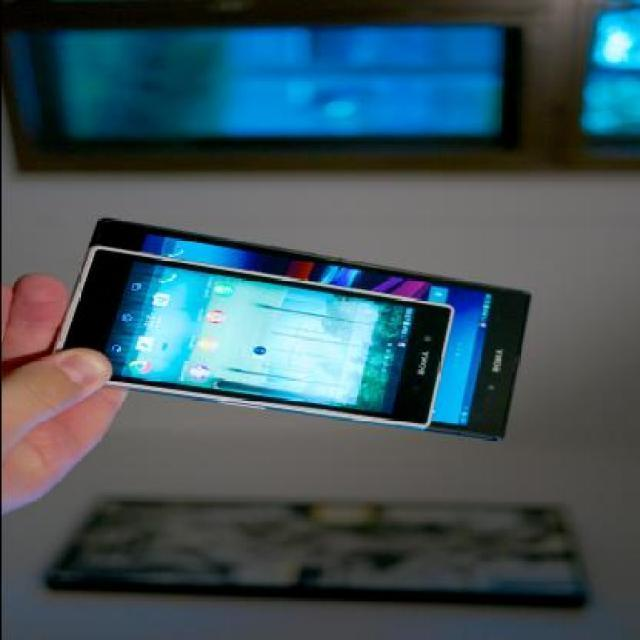phone: (83, 214, 532, 440)
